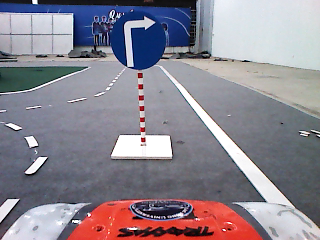turn: (108, 9, 167, 71)
